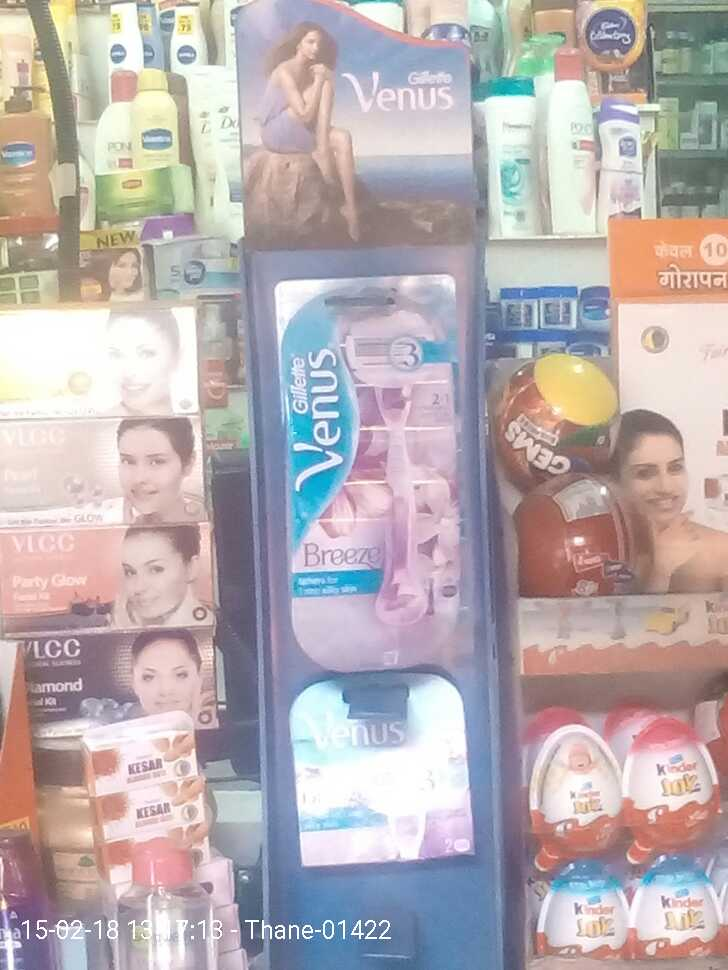beauty: (274, 274, 477, 669), (283, 675, 503, 874)
